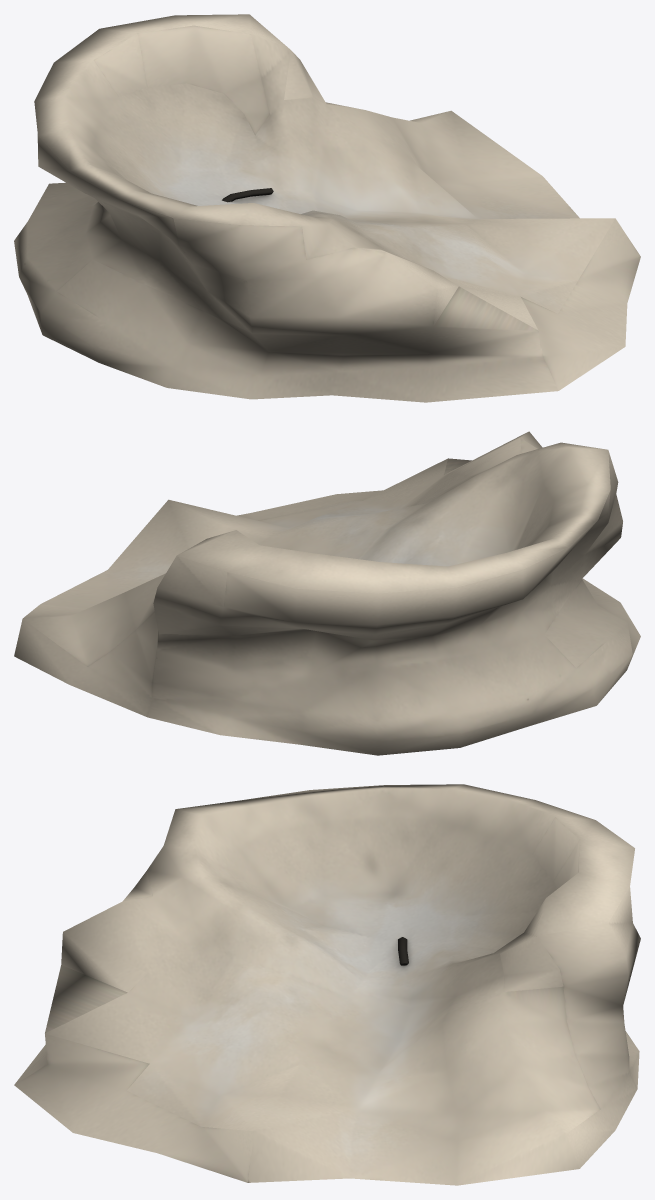
File: candleOut.fbx
The picture shows the model from 3 angles, top to bottom: view 1: azimuth 30°, elevation 25°; view 2: azimuth 150°, elevation 25°; view 3: azimuth 270°, elevation 25°; orthographic projection. The views are drawn at different scales.
Parts seen in each view (by area): view 1: candleOut1; view 2: candleOut1; view 3: candleOut1.
Boxes of the visible parts, x1,y1,x2,y2 form: candleOut1: (14,14,640,402); candleOut1: (14,431,640,755); candleOut1: (14,784,640,1185).
Size of the model in its own units: 0.1713 by 0.056 by 0.1748.
